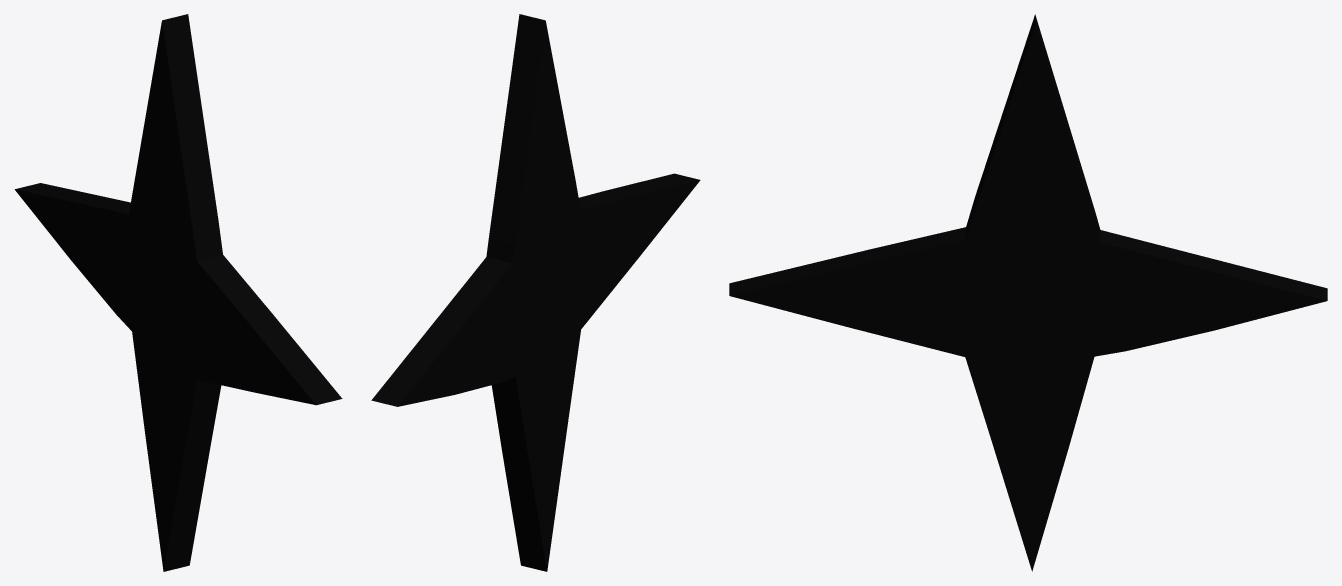
File: Star1.obj
3 views of the same model, side by side, from view 1: azimuth 30°, elevation 25°; view 2: azimuth 150°, elevation 25°; view 3: azimuth 270°, elevation 25° (orthographic).
Parts seen in each view (by area): view 1: Star1; view 2: Star1; view 3: Star1.
Part boxes in pixels (bbox=[...]): Star1: bbox=[15, 14, 342, 571]; Star1: bbox=[371, 14, 700, 571]; Star1: bbox=[729, 14, 1327, 571].
Size of the model in its own units: 0.0585 by 1.18 by 1.17.
